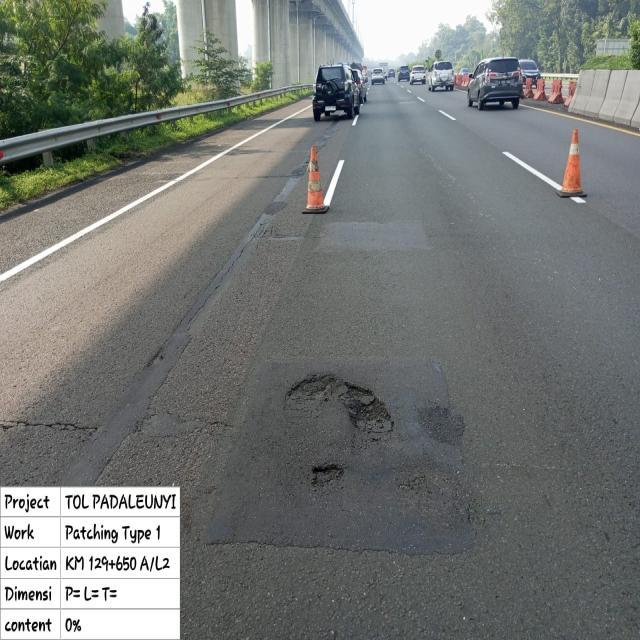Buraco: (282, 372, 398, 436), (308, 461, 348, 490)
